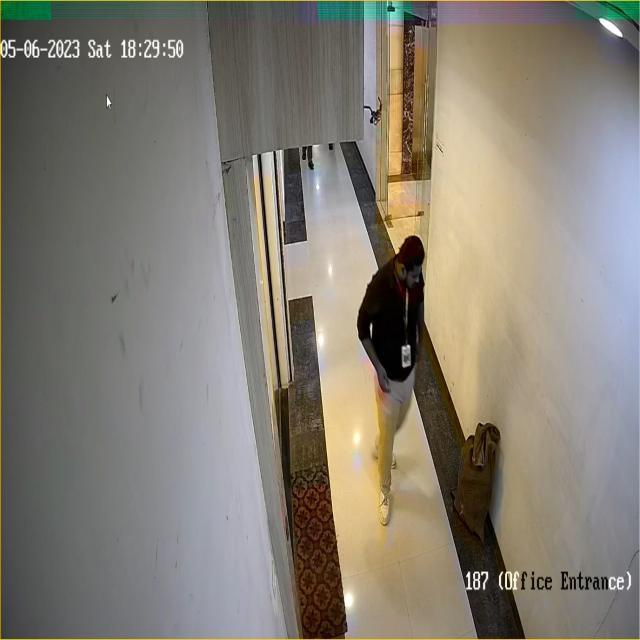gunny_bag: (451, 420, 503, 542)
